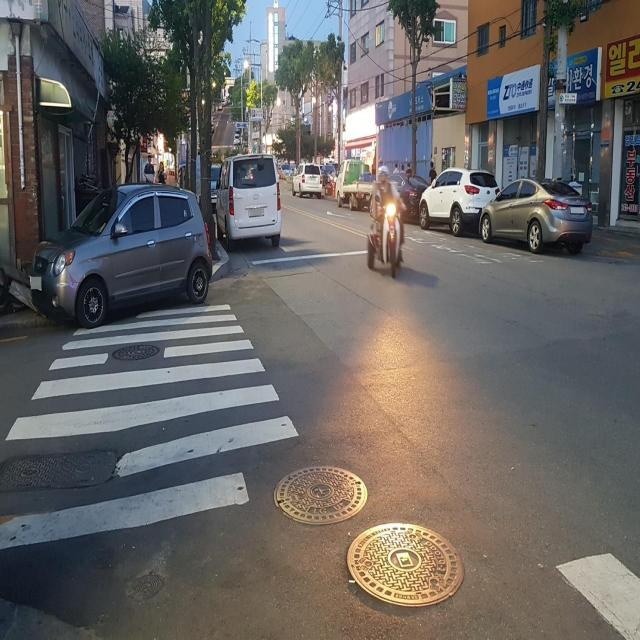횡단보도: (2, 298, 302, 556)
